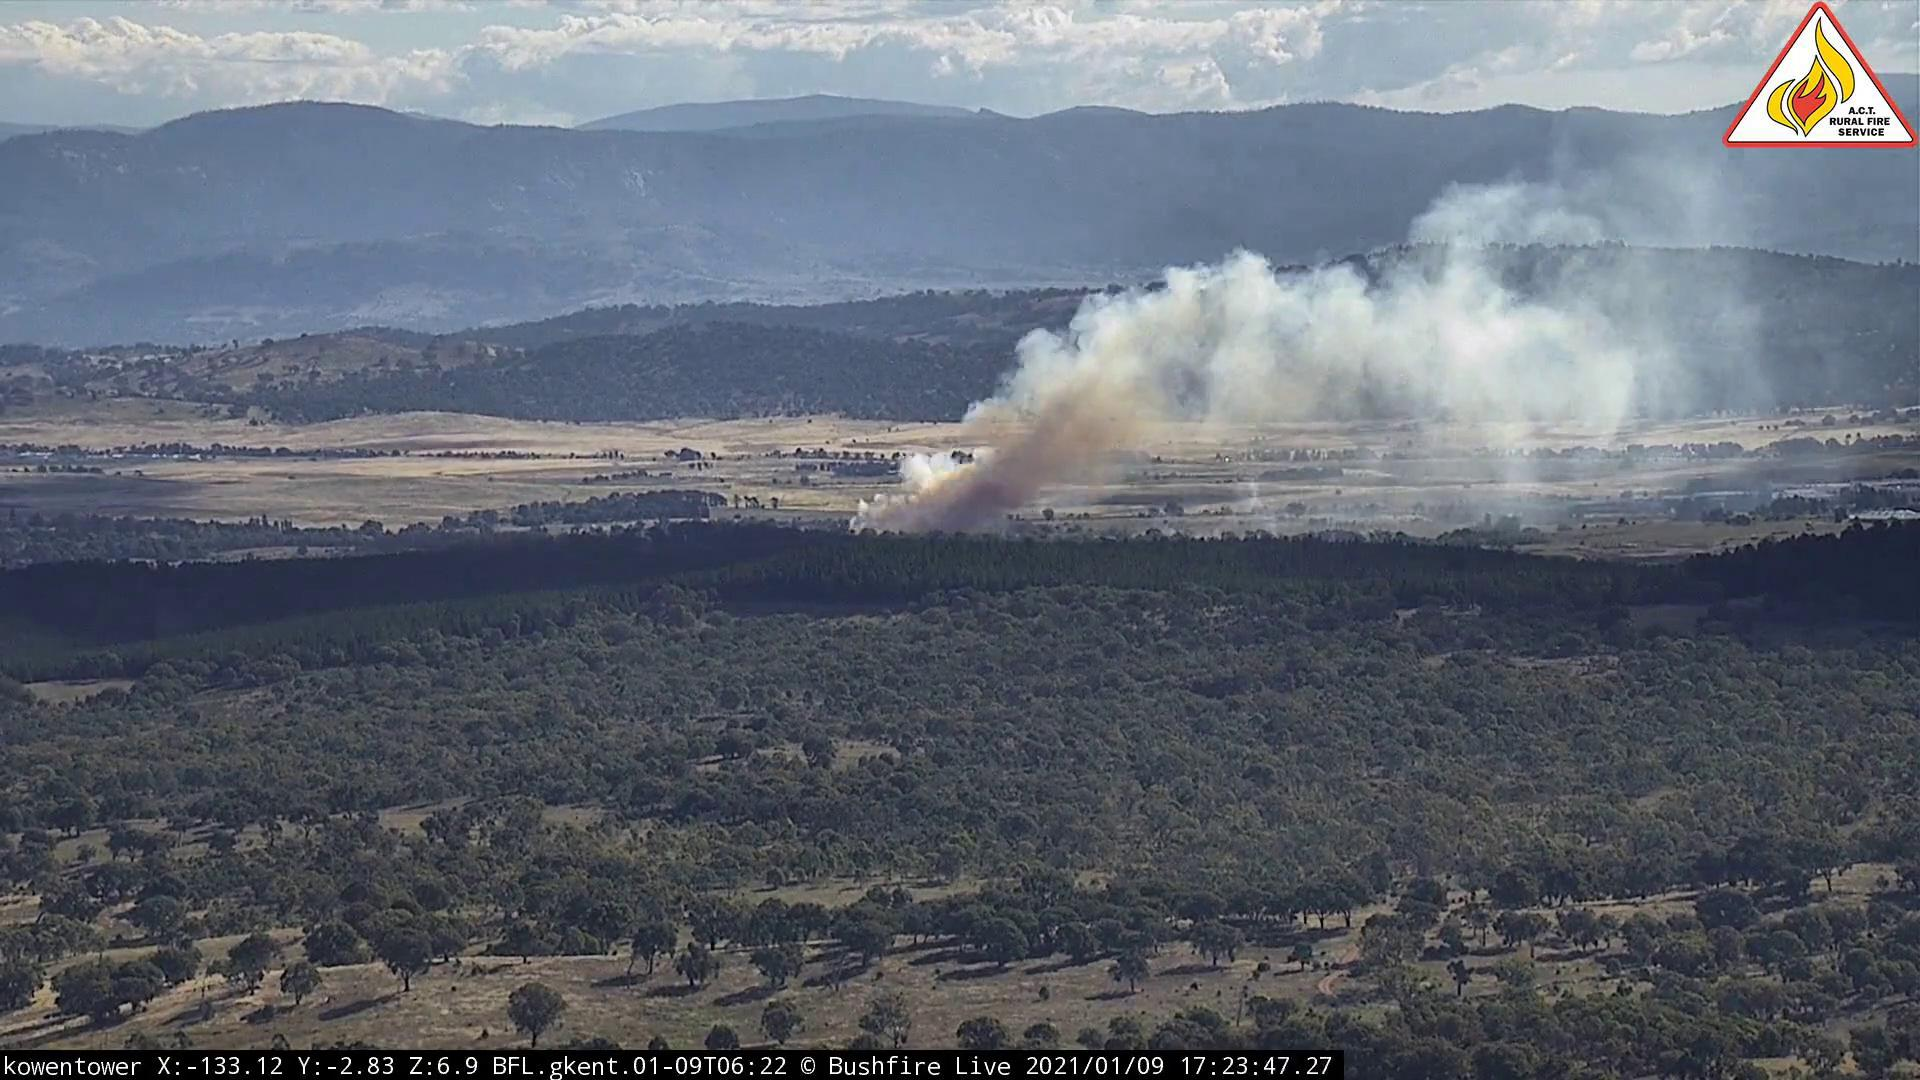Smoke: (837, 160, 1771, 553)
